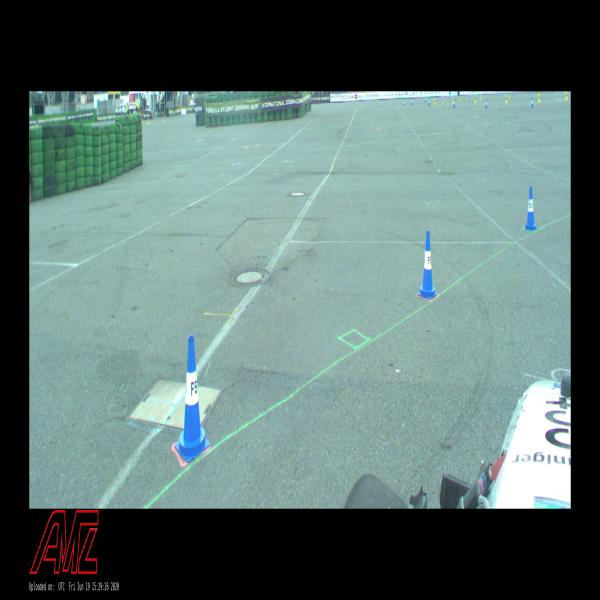blue_cone: (175, 335, 210, 462), (418, 231, 437, 299), (524, 186, 536, 231), (531, 98, 534, 108), (485, 99, 487, 109), (428, 97, 430, 106), (453, 99, 455, 108)
yellow_cone: (538, 93, 541, 103), (505, 95, 508, 103), (479, 92, 482, 100), (451, 96, 454, 103), (474, 94, 476, 102), (459, 96, 461, 101)
